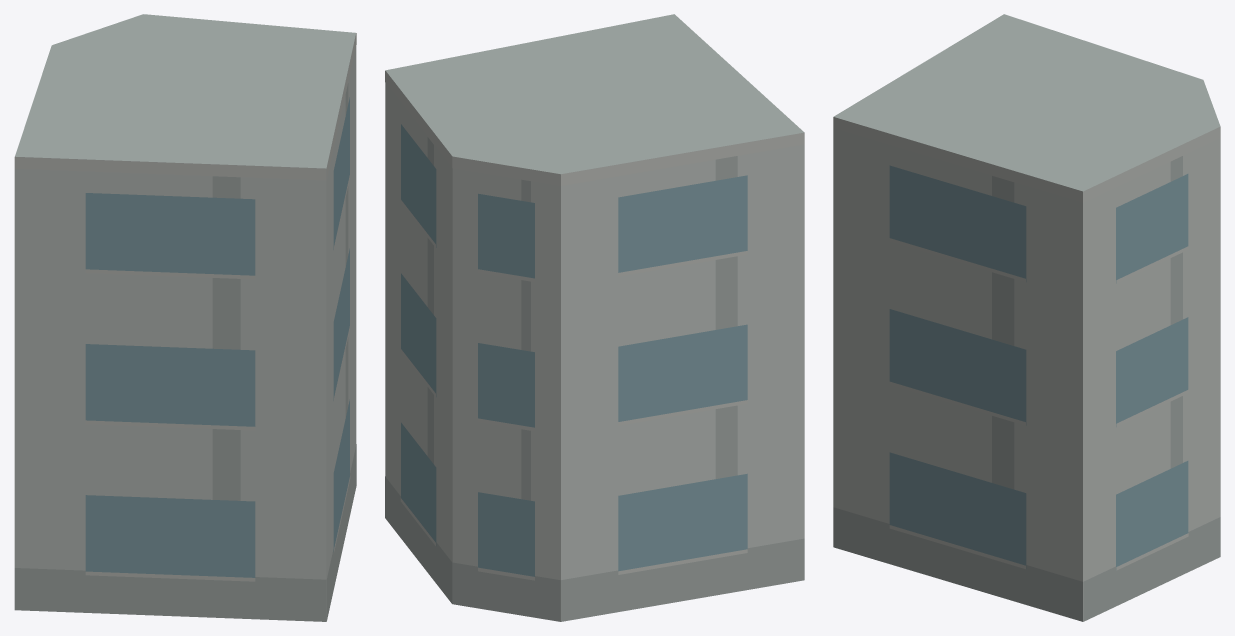
Rendered from survey-upis-32619660.glb.
3 views of the same model, side by side, from view 1: azimuth 30°, elevation 25°; view 2: azimuth 150°, elevation 25°; view 3: azimuth 270°, elevation 25° (orthographic). The views are drawn at different scales.
Parts seen in each view (by area): view 1: survey-upis-32619660.tmp; view 2: survey-upis-32619660.tmp; view 3: survey-upis-32619660.tmp.
Boxes of the visible parts, x1=… form: survey-upis-32619660.tmp: x1=14, y1=14, x2=356, y2=621; survey-upis-32619660.tmp: x1=385, y1=14, x2=804, y2=621; survey-upis-32619660.tmp: x1=833, y1=14, x2=1220, y2=621.
Size of the model in its own units: 8.1 by 9.15 by 7.47.
